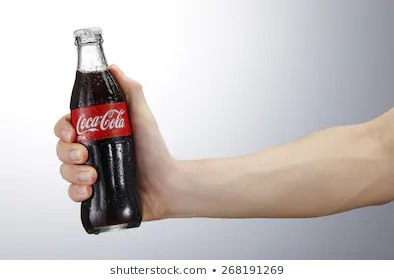coke-glass-bottle: (55, 21, 151, 239)
